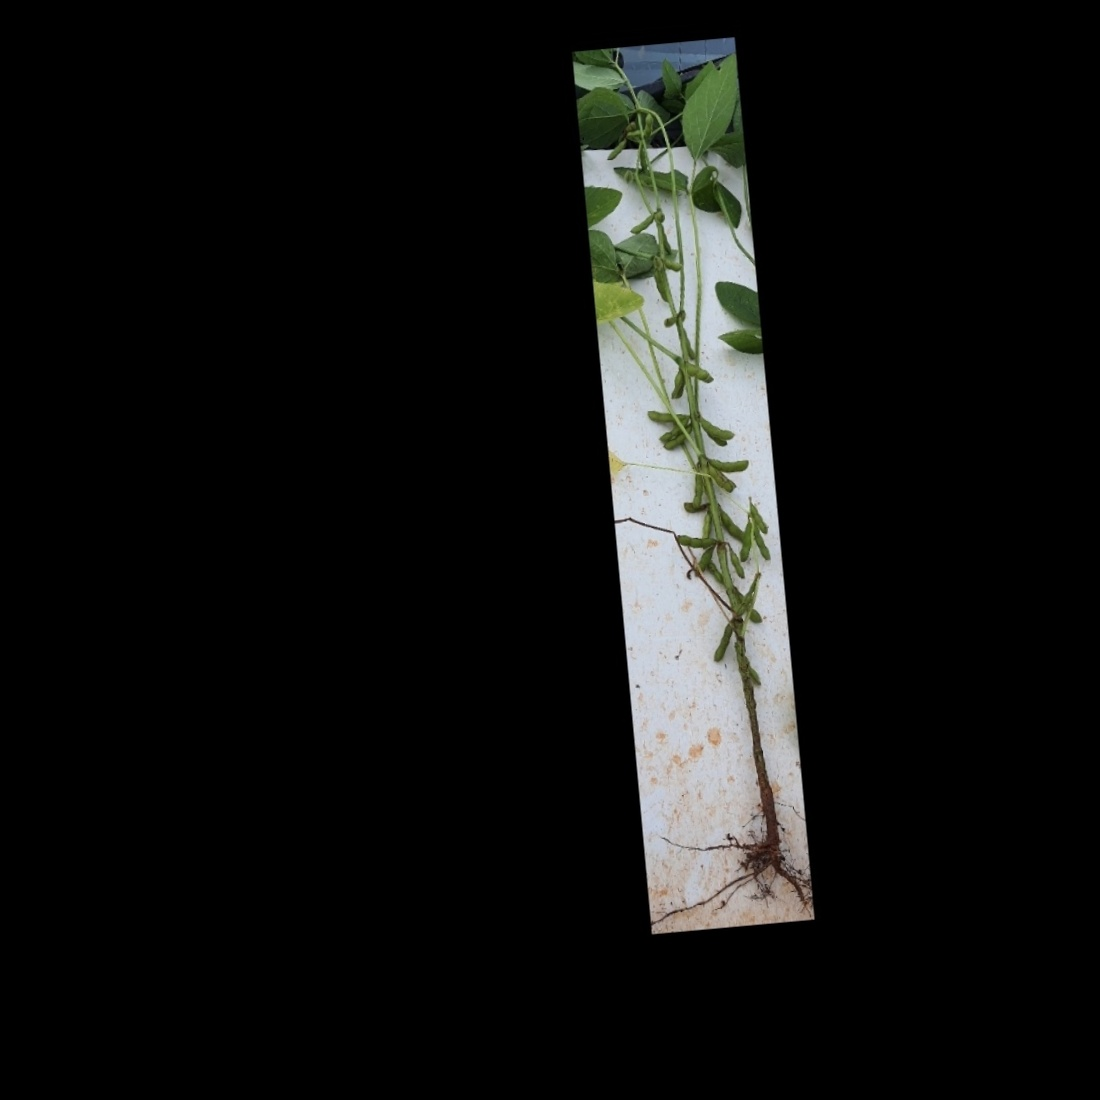pod: (708, 616, 737, 665), (715, 504, 745, 543), (705, 452, 749, 475), (734, 519, 757, 564), (749, 517, 771, 564), (676, 530, 718, 552), (742, 653, 766, 690), (748, 495, 769, 534), (689, 549, 715, 576), (725, 545, 745, 580), (601, 137, 628, 163), (627, 213, 656, 235), (639, 111, 656, 140)
soy: (592, 89, 794, 898)
